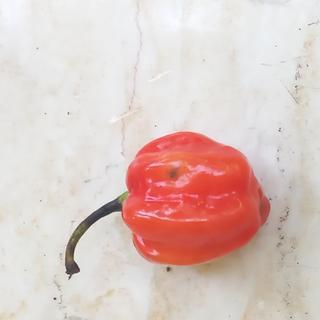Grade-B: (117, 121, 276, 265)
